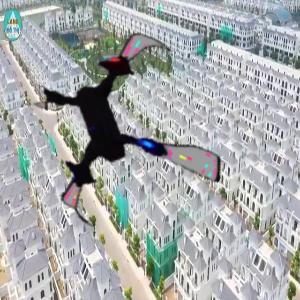drone: (24, 28, 233, 237)
